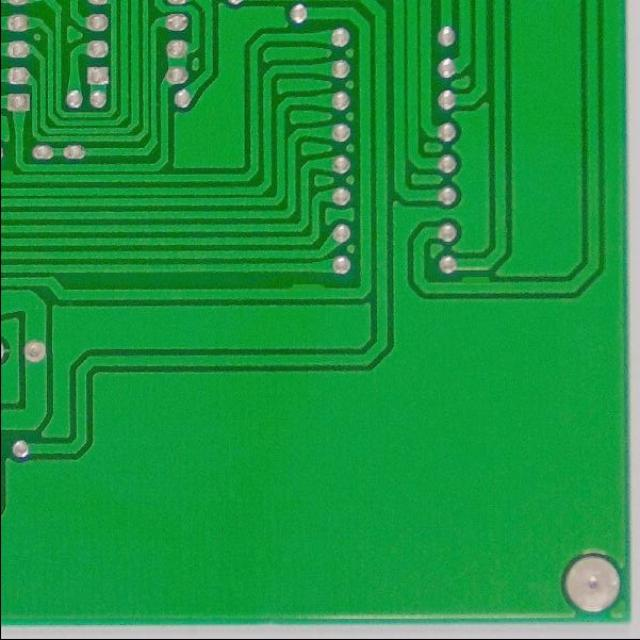Spur: (284, 277, 332, 302), (455, 272, 496, 297), (0, 165, 19, 189)
